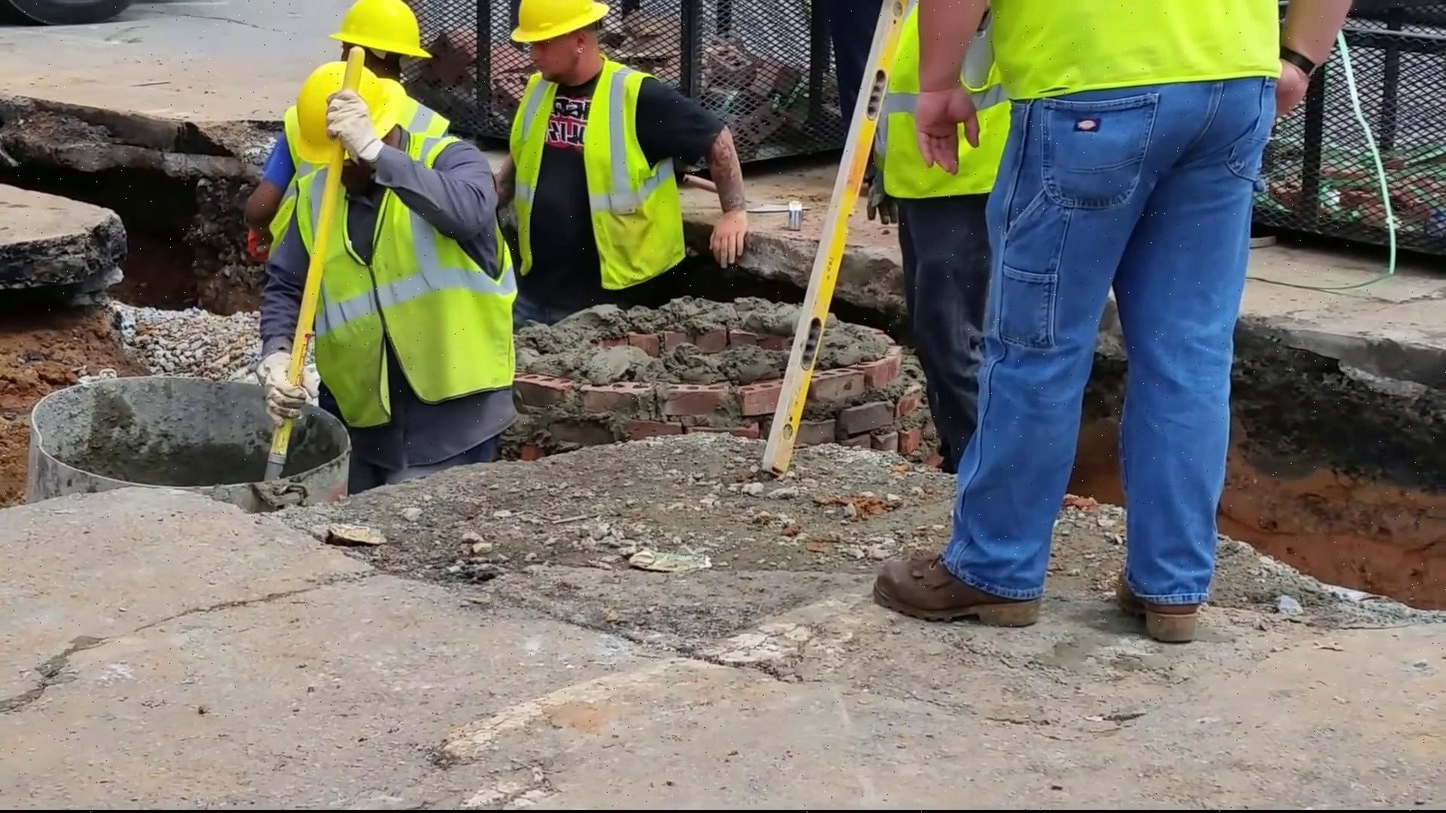Hard_hat: (286, 64, 411, 151), (338, 0, 440, 63), (485, 0, 619, 40)
Vest: (262, 138, 530, 439), (509, 55, 675, 291), (989, 0, 1297, 84)
